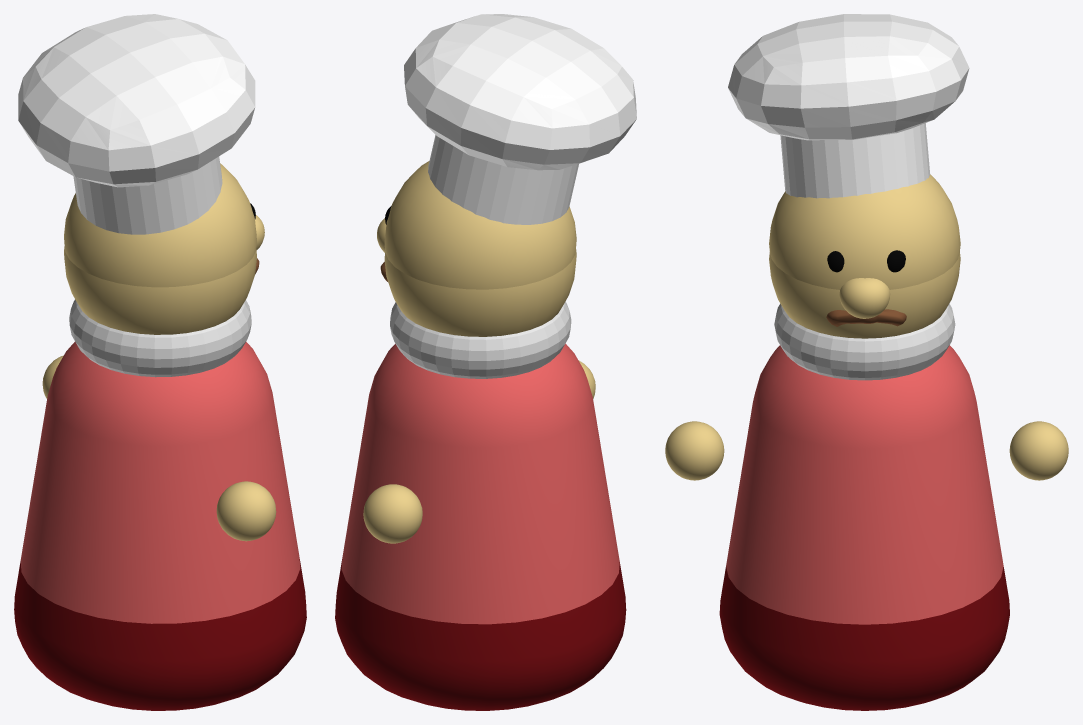
File: Pizzaiolo.glb
The picture shows the model from 3 angles, left to right: view 1: azimuth 30°, elevation 25°; view 2: azimuth 150°, elevation 25°; view 3: azimuth 270°, elevation 25°; orthographic projection.
Parts seen in each view (by area): view 1: Body, Cube, Bool, Head, Sphere.001, Cylinder, Bras_G; view 2: Body, Cube, Bool, Head, Cylinder, Sphere.001, Bras_G.002; view 3: Body, Cube, Bool, Cylinder, Sphere.001, Head, Bras_G, Bras_G.002, Nez, Moustache.
Boxes of the visible parts, bbox=[...] form: Body: bbox=[14, 342, 306, 710]; Cube: bbox=[18, 14, 255, 187]; Bool: bbox=[64, 163, 256, 287]; Head: bbox=[64, 246, 256, 334]; Sphere.001: bbox=[69, 299, 251, 377]; Cylinder: bbox=[73, 156, 222, 234]; Bras_G: bbox=[216, 481, 276, 541]; Body: bbox=[335, 343, 626, 710]; Cube: bbox=[404, 14, 636, 170]; Bool: bbox=[384, 161, 576, 289]; Head: bbox=[384, 249, 576, 336]; Cylinder: bbox=[428, 135, 578, 224]; Sphere.001: bbox=[390, 302, 571, 378]; Bras_G.002: bbox=[363, 484, 422, 543]; Body: bbox=[719, 345, 1009, 710]; Cube: bbox=[728, 14, 969, 140]; Bool: bbox=[769, 174, 960, 289]; Cylinder: bbox=[780, 123, 930, 198]; Sphere.001: bbox=[774, 303, 955, 380]; Head: bbox=[769, 252, 960, 338]; Bras_G: bbox=[665, 421, 724, 480]; Bras_G.002: bbox=[1009, 421, 1068, 480]; Nez: bbox=[839, 278, 890, 318]; Moustache: bbox=[826, 309, 906, 326].
Bounding box in the file's own units: 1.9 × 4.48 × 2.59.
